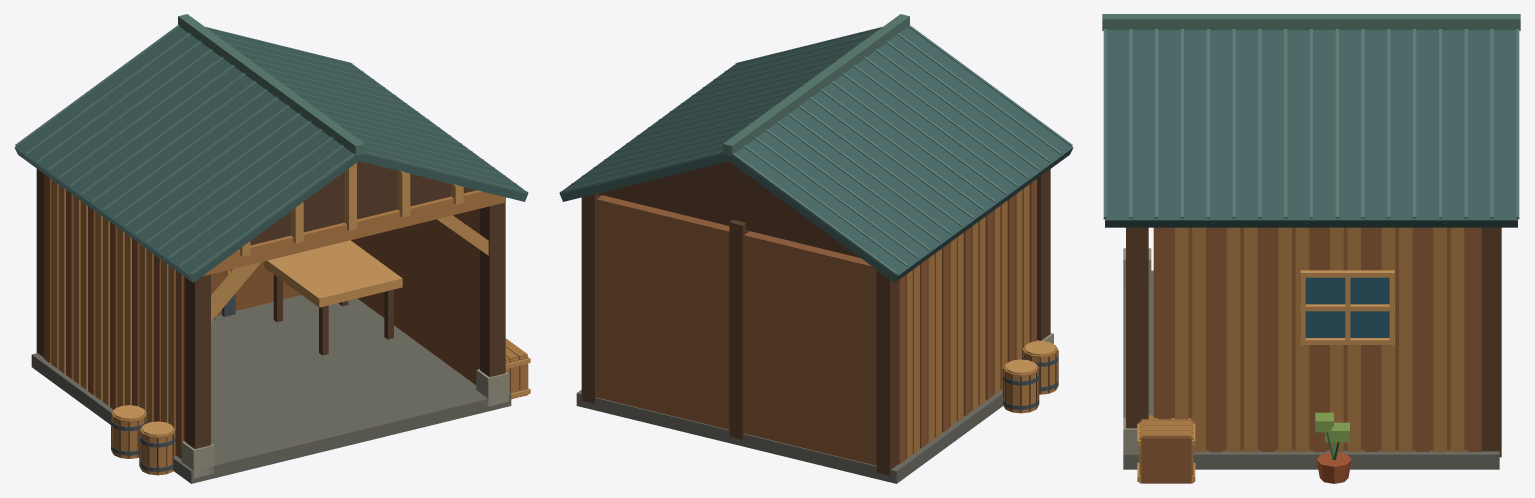
The model's file is tool_shed.glb.
The picture shows the model from 3 angles, left to right: view 1: azimuth 30°, elevation 25°; view 2: azimuth 150°, elevation 25°; view 3: azimuth 270°, elevation 25°; orthographic projection. The views are drawn at different scales.
Visible parts, largest first — view 1: body__slate.001, body__stone_dark.001, body__wood.002, body__wood2.002, body__slate2.001, body__wood_dark.001, body__wood3.001, body__stone.001, body__metal.006; view 2: body__wood.002, body__slate.001, body__wood_dark.001, body__slate2.001, body__wood2.002, body__stone_dark.001, body__wood3.001, body__metal.006; view 3: body__slate.001, body__wood.002, body__wood2.002, body__slate2.001, body__wood_dark.001, body__stone_dark.001, body__glass.003, body__wood3.001, body__tile, body__leaf2, body__stone.001.
Boxes of the visible parts, x1,y1,x2,y2 form: body__slate.001: [14, 27, 528, 282]; body__stone_dark.001: [31, 295, 511, 483]; body__wood.002: [44, 174, 519, 459]; body__wood2.002: [51, 179, 528, 475]; body__slate2.001: [15, 14, 527, 275]; body__wood_dark.001: [36, 161, 505, 474]; body__wood3.001: [113, 163, 530, 436]; body__stone.001: [181, 369, 508, 478]; body__metal.006: [111, 294, 235, 471]; body__wood.002: [596, 179, 1036, 465]; body__slate.001: [559, 27, 1073, 282]; body__wood_dark.001: [581, 161, 1058, 475]; body__slate2.001: [560, 14, 1072, 275]; body__wood2.002: [905, 184, 1057, 459]; body__stone_dark.001: [576, 389, 1003, 483]; body__wood3.001: [1005, 341, 1056, 374]; body__metal.006: [1003, 356, 1058, 409]; body__slate.001: [1105, 30, 1517, 227]; body__wood.002: [1141, 227, 1481, 483]; body__wood2.002: [1139, 227, 1464, 483]; body__slate2.001: [1102, 14, 1520, 219]; body__wood_dark.001: [1126, 227, 1501, 457]; body__stone_dark.001: [1123, 270, 1499, 469]; body__glass.003: [1305, 277, 1389, 337]; body__wood3.001: [1137, 270, 1394, 481]; body__tile: [1316, 452, 1351, 483]; body__leaf2: [1315, 412, 1349, 442]; body__stone.001: [1123, 248, 1151, 453].
Size of the model in its own units: 5.67 by 4.39 by 4.61.
